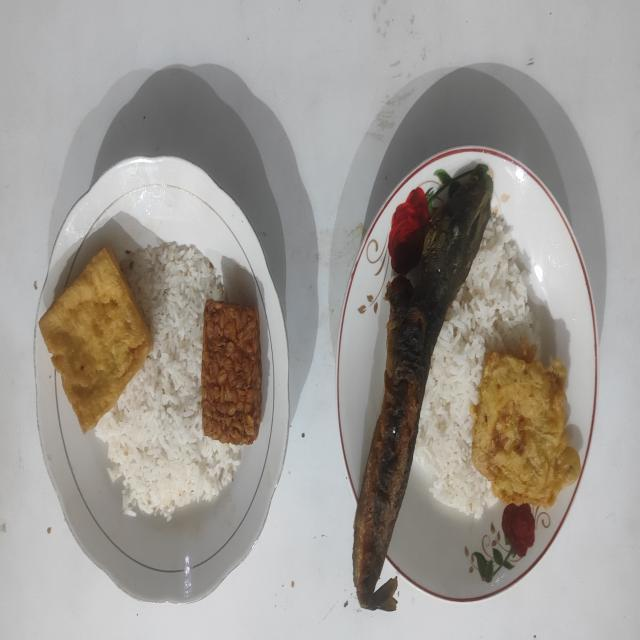nasi_putih: (96, 242, 240, 520), (418, 208, 540, 518)
tahu_goreng: (39, 248, 152, 432)
tempe_goreng: (201, 299, 262, 445)
